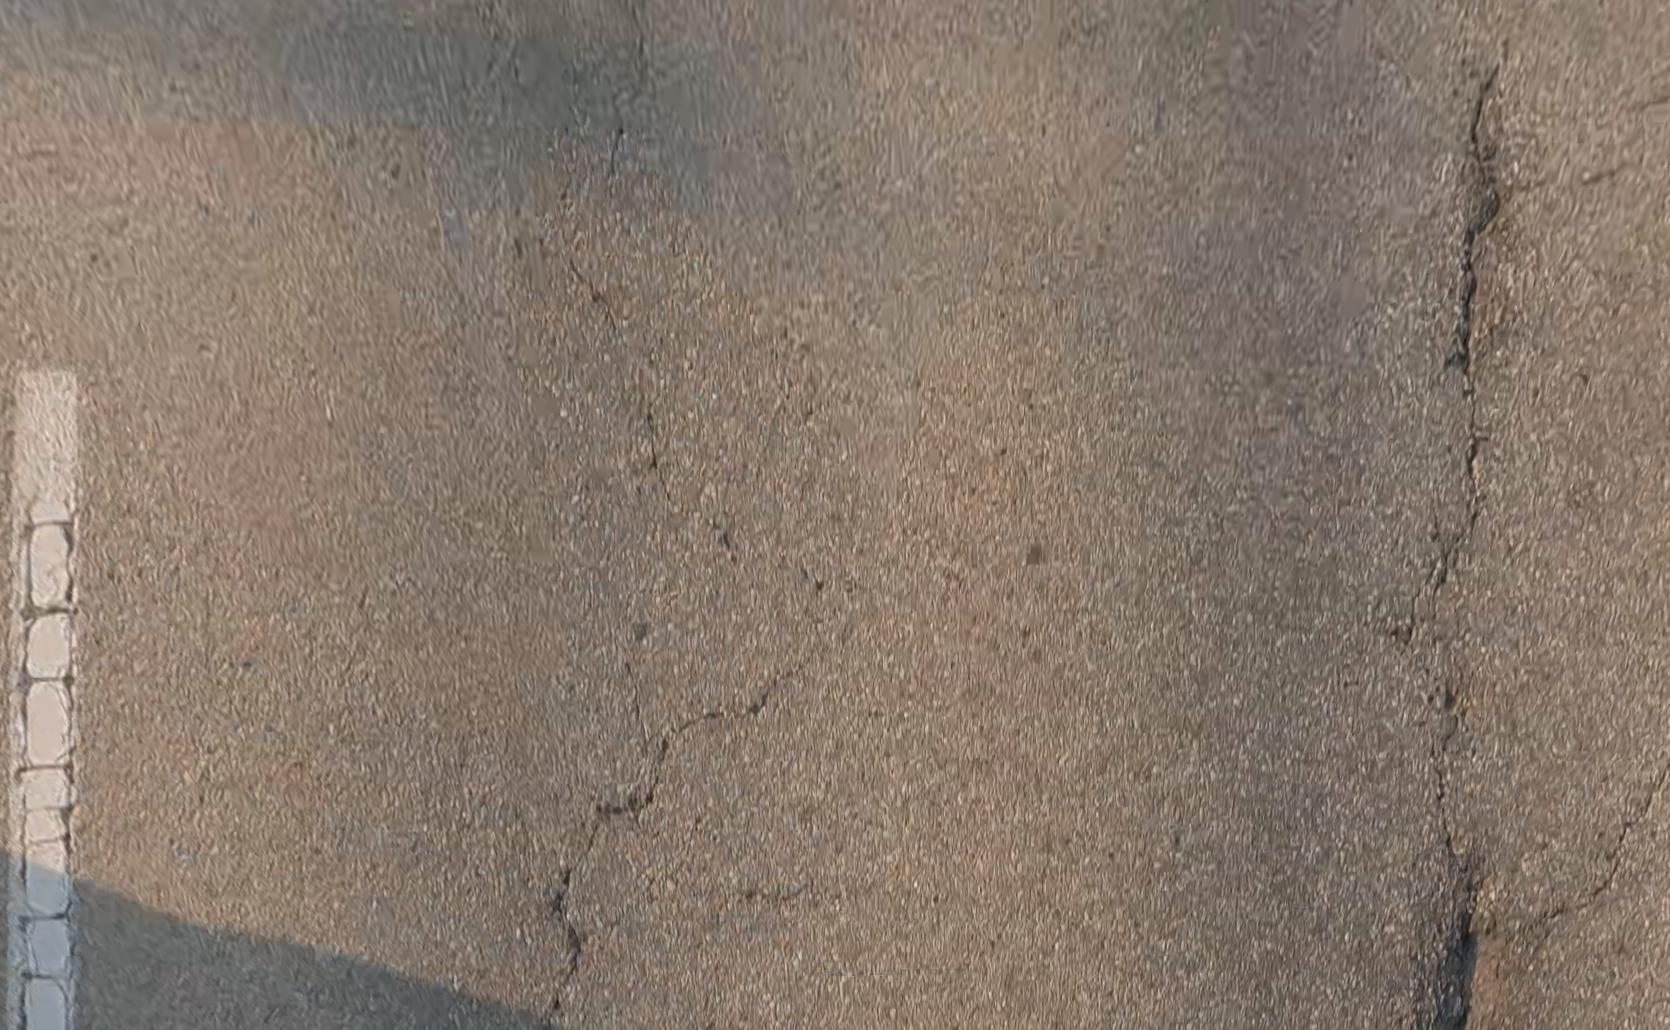pothole: (1419, 913, 1504, 1028)
